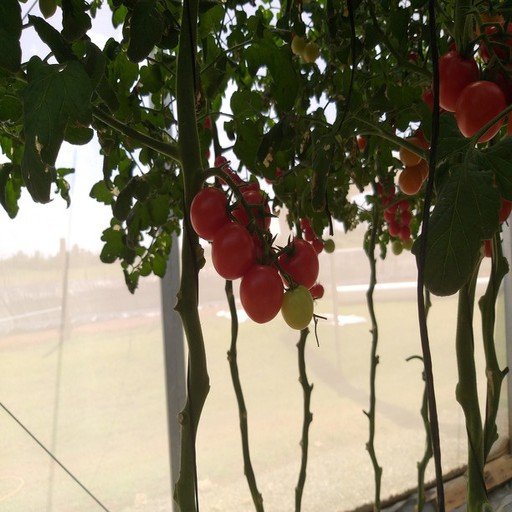green tomato bunch: (293, 34, 320, 65)
mixed tomato bunch: (399, 132, 434, 194)
red tomato bunch: (190, 187, 321, 324), (435, 8, 512, 141), (372, 183, 413, 239), (215, 156, 261, 202)
